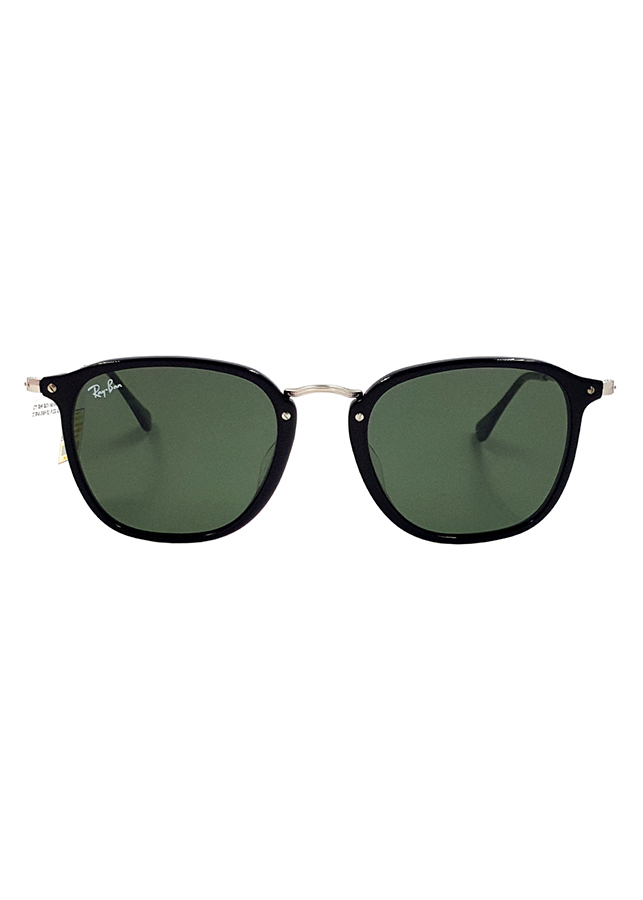Rayban: (81, 371, 133, 402)
